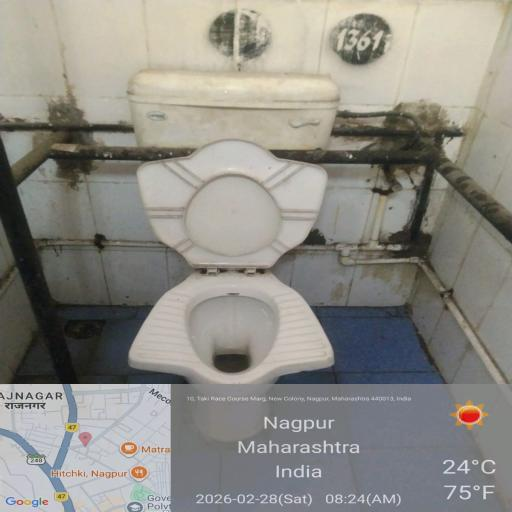partial_dirty_floor: (8, 6, 512, 178), (4, 352, 512, 512)
partial_dirty_western: (102, 86, 376, 434)
